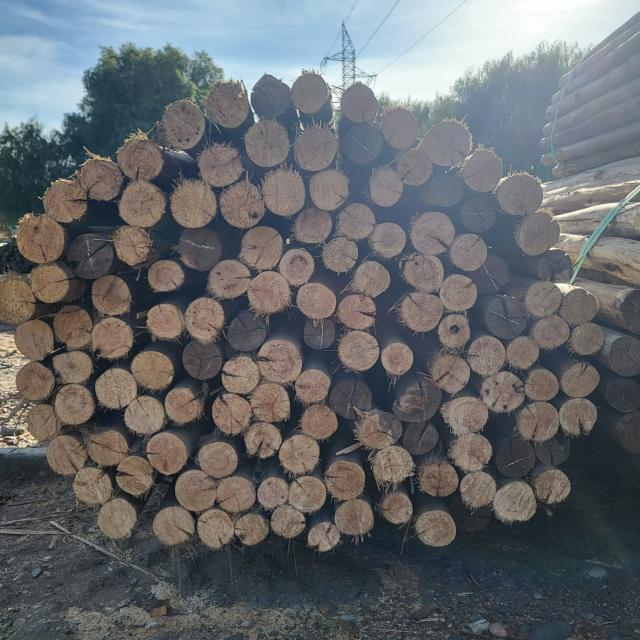package: (0, 71, 604, 549)
